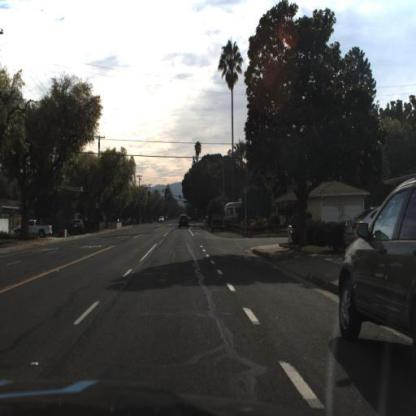car: (338, 177, 416, 360), (20, 219, 53, 237), (210, 210, 227, 233), (176, 211, 193, 233), (212, 213, 226, 233)
truck: (223, 202, 245, 226)
